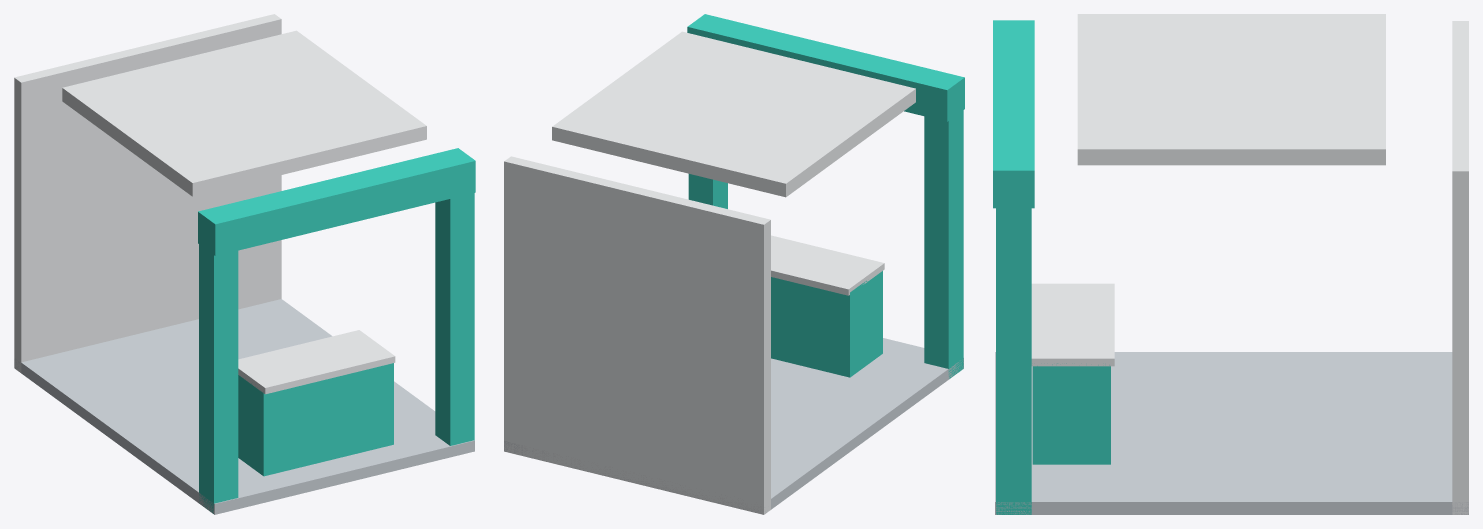
The picture shows the model from 3 angles, left to right: view 1: azimuth 30°, elevation 25°; view 2: azimuth 150°, elevation 25°; view 3: azimuth 270°, elevation 25°; orthographic projection. The views are drawn at different scales.
Parts seen in each view (by area): view 1: Exhibition Booth Concept; view 2: Exhibition Booth Concept; view 3: Exhibition Booth Concept.
Boxes of the visible parts, x1,y1,x2,y2 form: Exhibition Booth Concept: (14, 14, 475, 514); Exhibition Booth Concept: (504, 14, 964, 514); Exhibition Booth Concept: (993, 14, 1468, 514).
Size of the model in its own units: 3 by 3.34 by 4.02.
